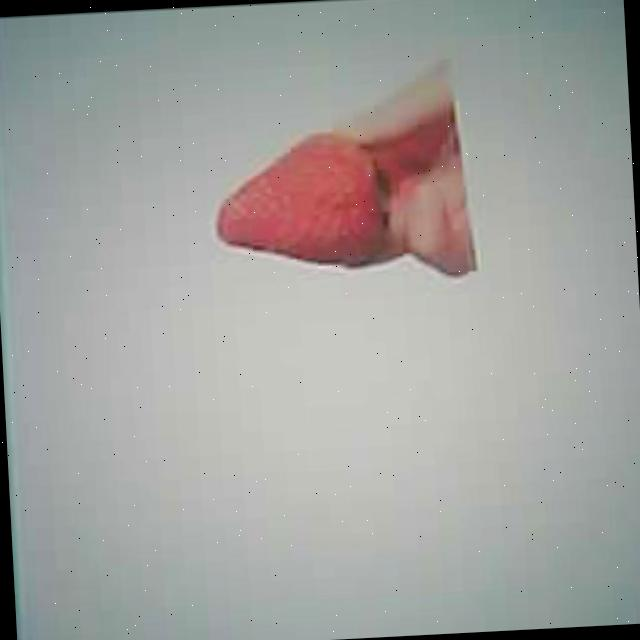strawberry: (211, 128, 382, 272)
